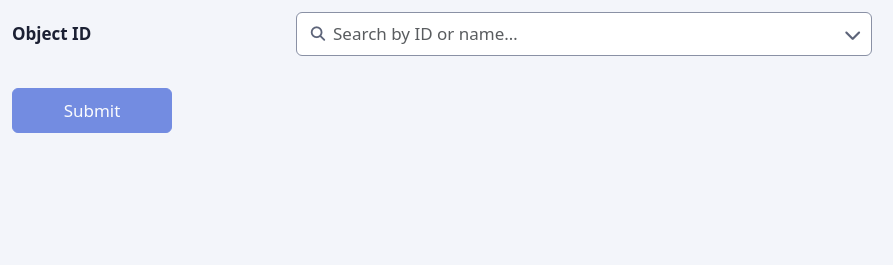
Test: lists the objects with name and owner badge when focused
This screenshot has width=893, height=265.
Click the dropdown labelled "Object ID": (584,34) [296,12,872,56]
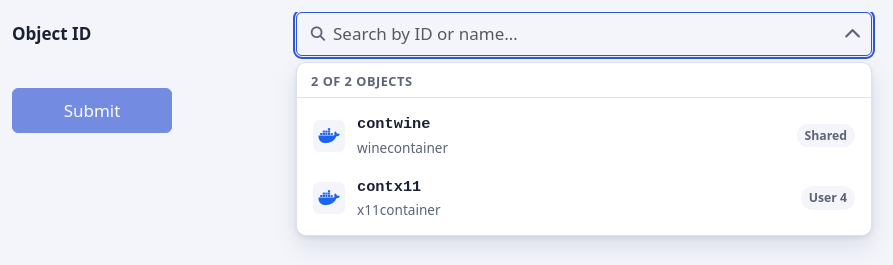
Now the dropdown labelled "Object ID" is expanded, box [296,12,872,56]
Now the text "2 of 2 objects" is shown, box [297,63,871,98]
Now the text "winecontainer" is shown, box [357,138,448,157]
